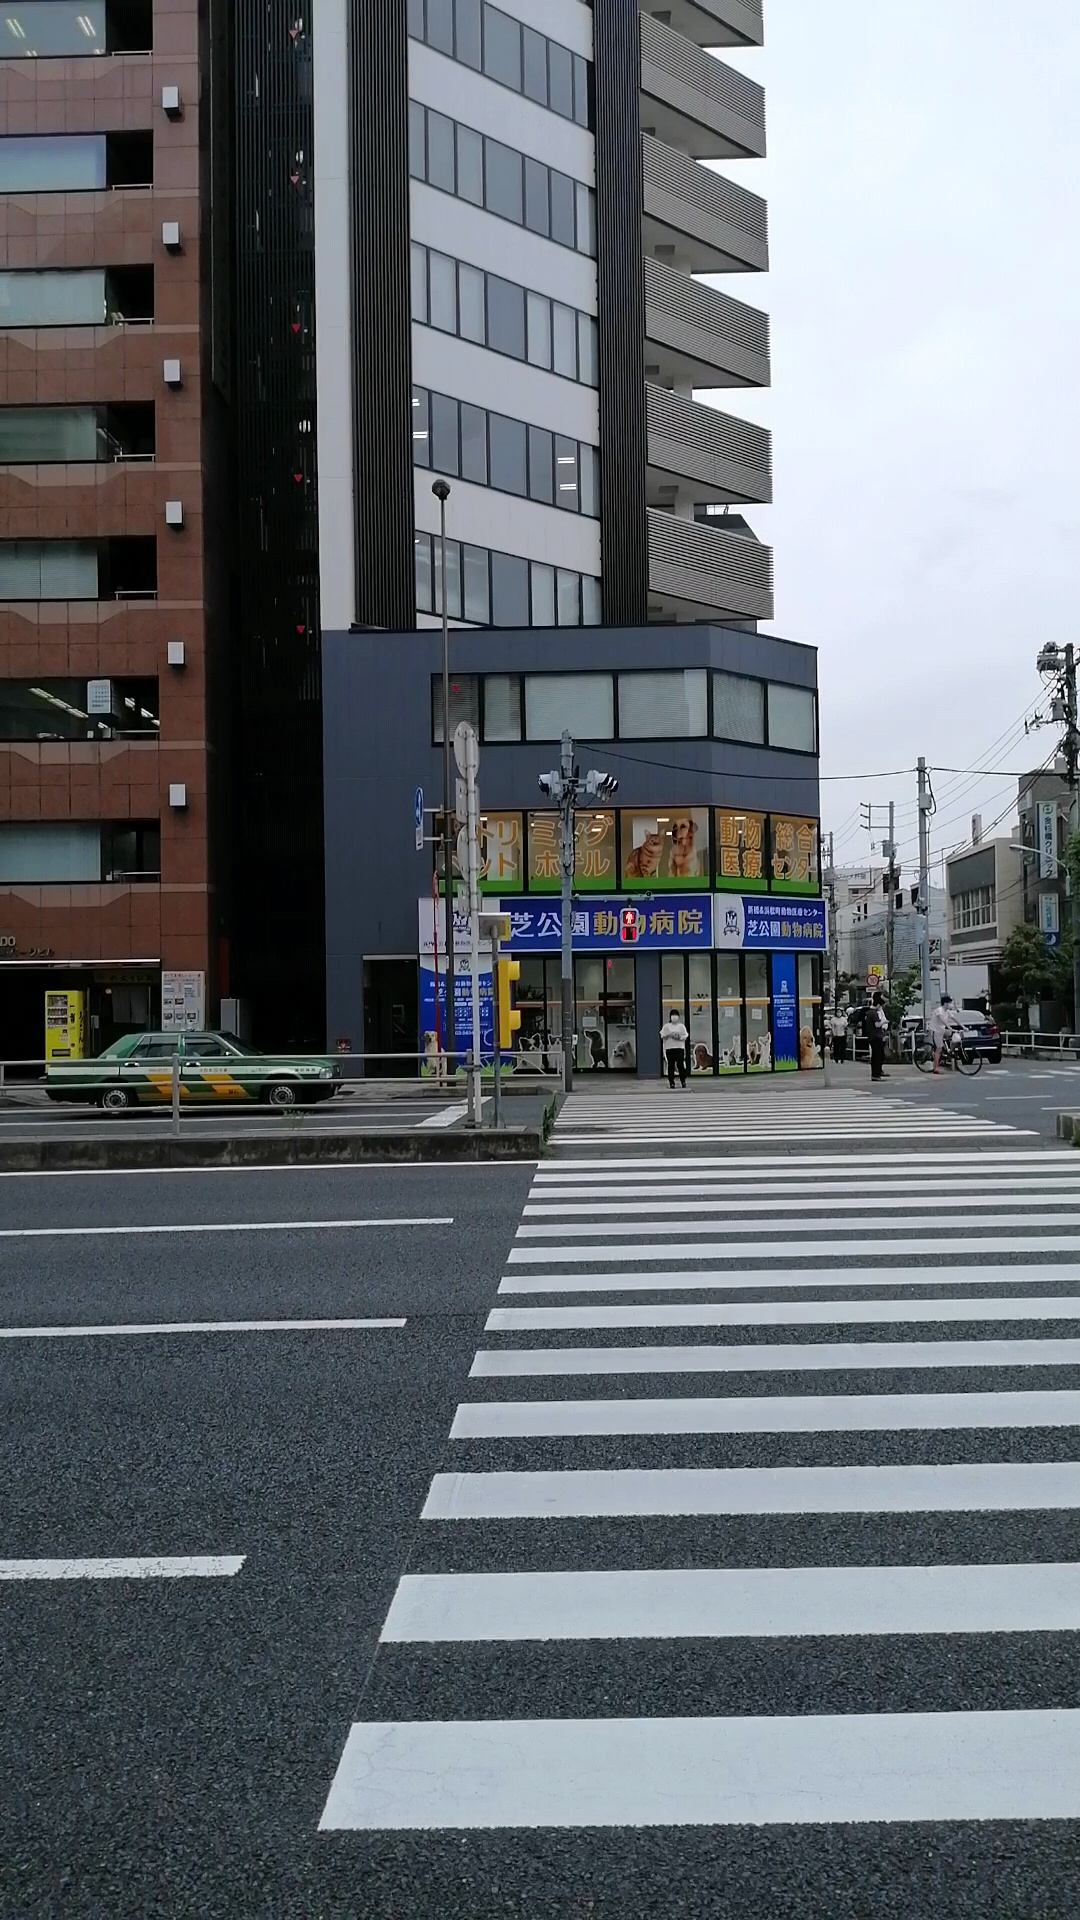red: (618, 907, 637, 943)
